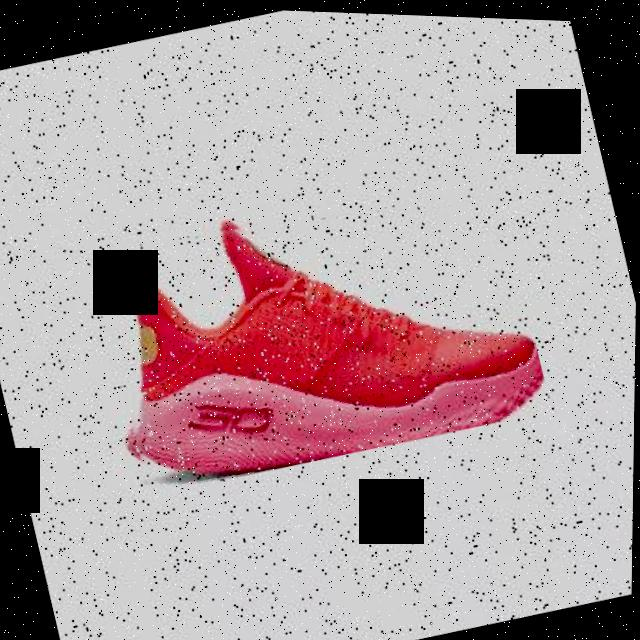shoe: (81, 150, 555, 508)
